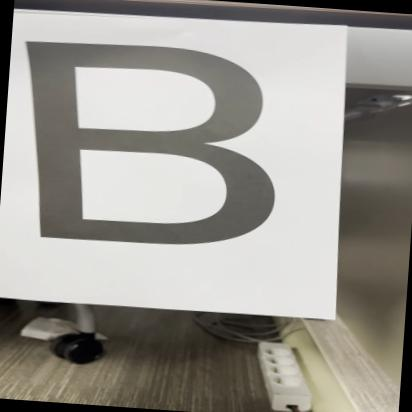seat: (2, 30, 294, 271)
